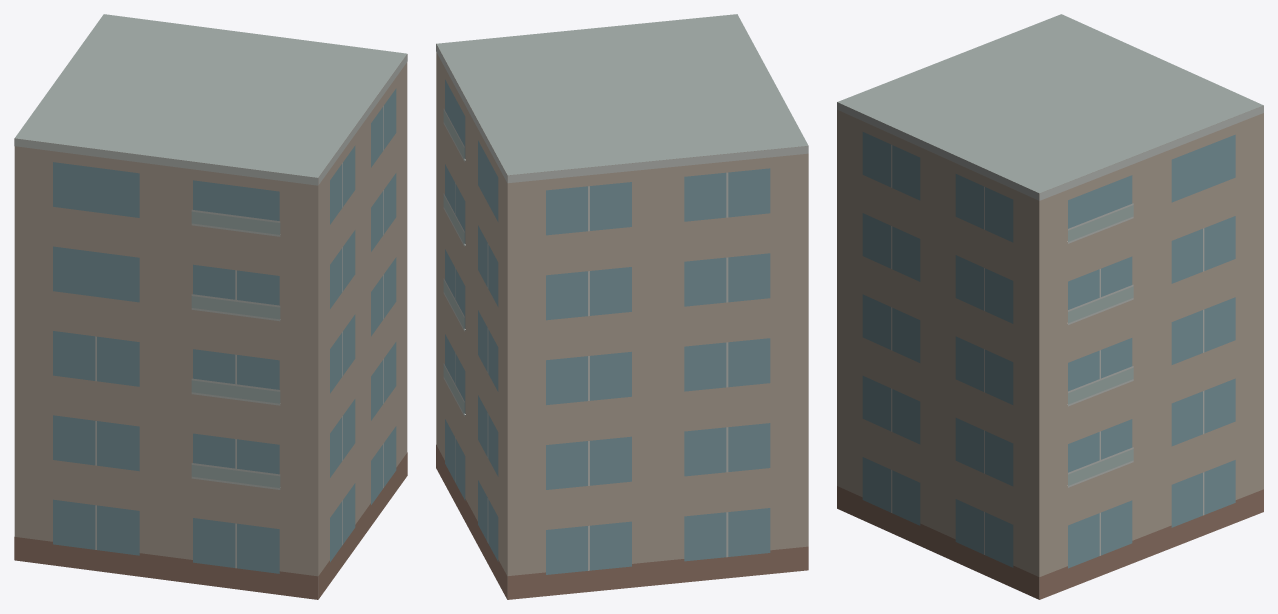
File: survey-upis-32718889.glb
The picture shows the model from 3 angles, left to right: view 1: azimuth 30°, elevation 25°; view 2: azimuth 150°, elevation 25°; view 3: azimuth 270°, elevation 25°; orthographic projection. The views are drawn at different scales.
Visible parts, largest first — view 1: survey-upis-32718889.tmp; view 2: survey-upis-32718889.tmp; view 3: survey-upis-32718889.tmp.
Boxes of the visible parts, x1,y1,x2,y2 form: survey-upis-32718889.tmp: [14, 14, 407, 599]; survey-upis-32718889.tmp: [436, 14, 808, 599]; survey-upis-32718889.tmp: [837, 14, 1263, 599].
Bounding box in the file's own units: 12.4 × 13.1 × 12.47.
